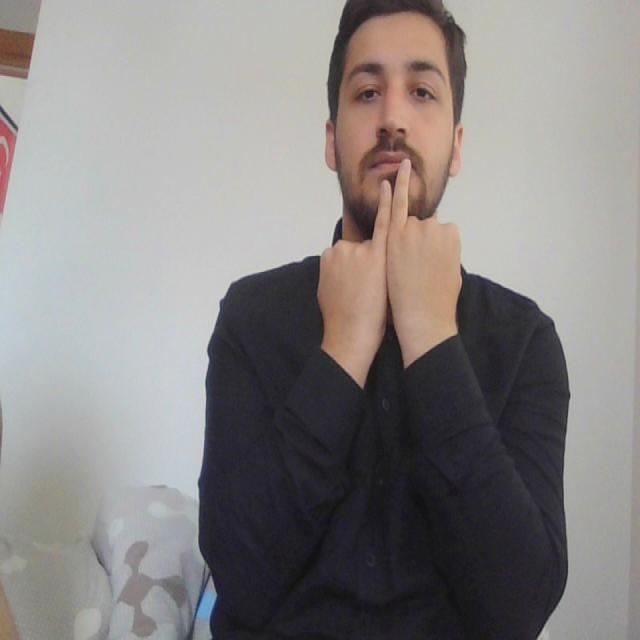Kardes: (313, 154, 469, 362)
